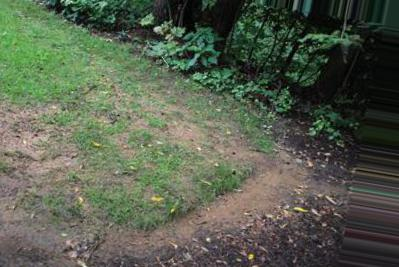patch: (5, 120, 114, 233), (173, 166, 287, 230)
